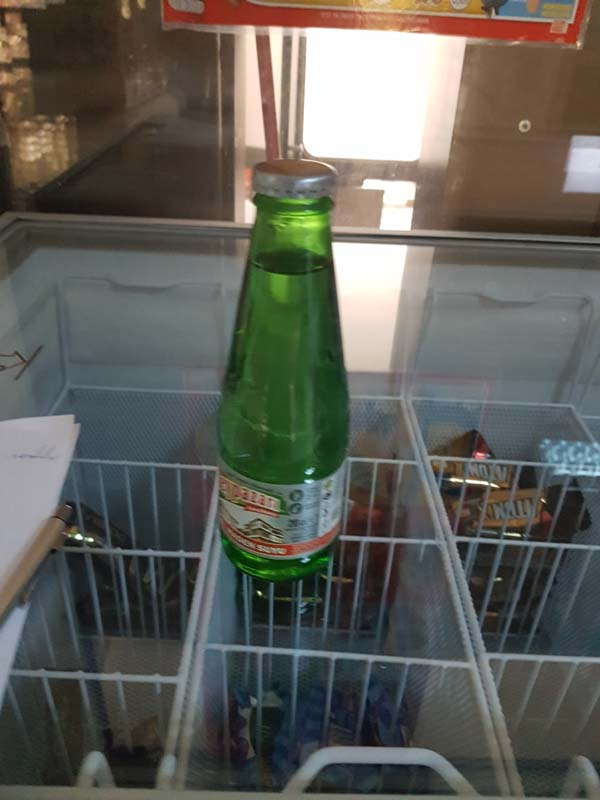beypazarimadensuyu: (213, 157, 366, 588)
